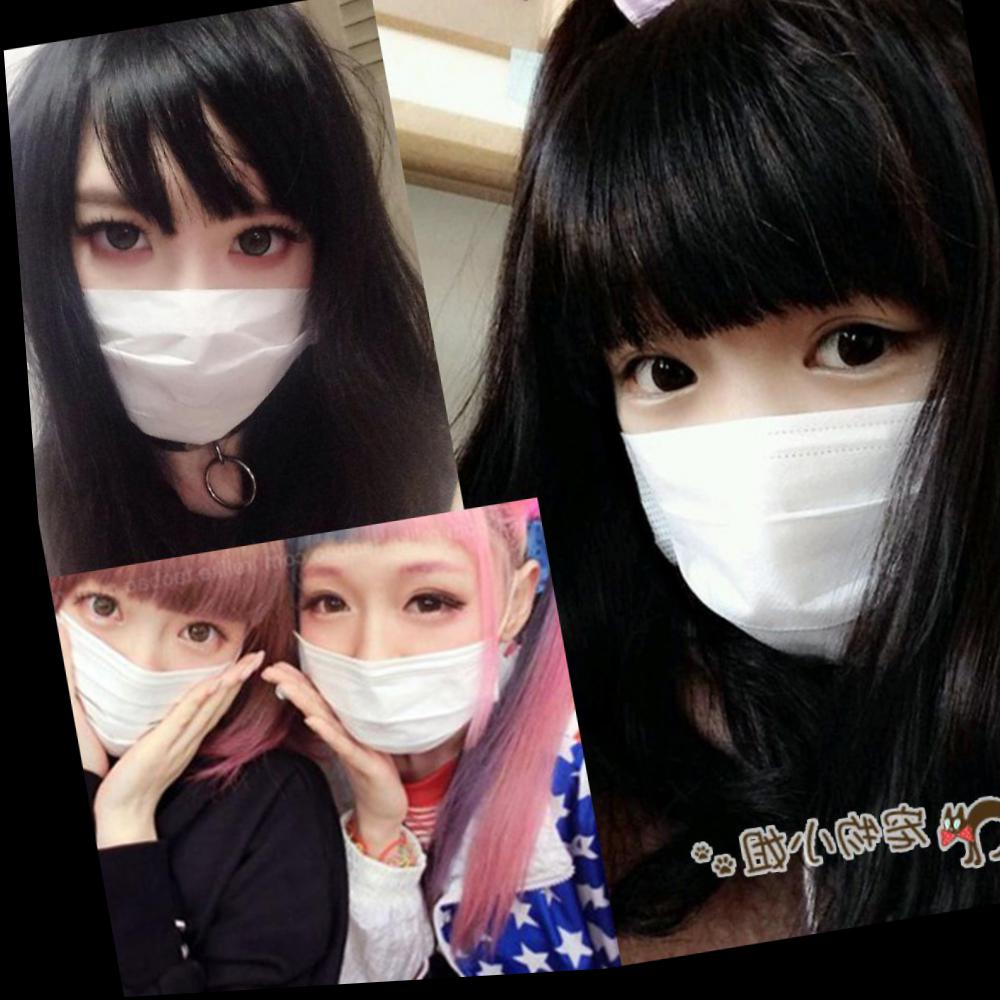OK: (495, 187, 1000, 714), (21, 141, 350, 467)
WRONG: (253, 525, 502, 771), (41, 548, 242, 747)
